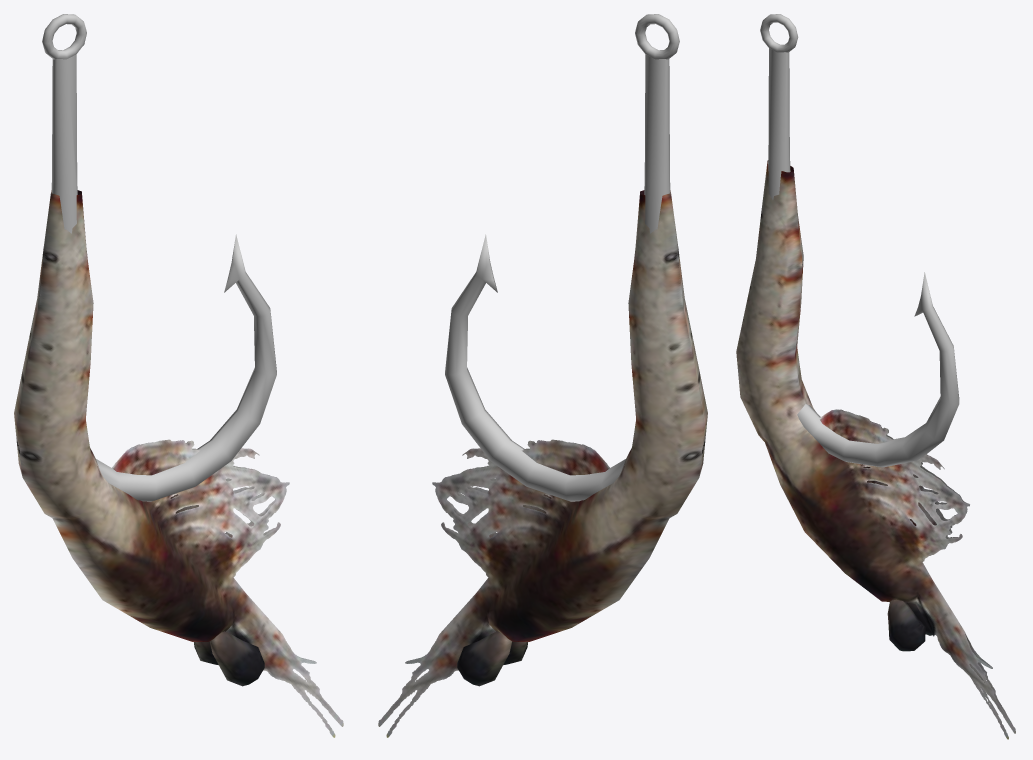
File: Bait_OpossumShrimp.fbx
3 renders of one model, left to right at view 1: azimuth 30°, elevation 25°; view 2: azimuth 150°, elevation 25°; view 3: azimuth 330°, elevation 25°, orthographic. The views are drawn at different scales.
Parts seen in each view (by area): view 1: Bait_Gonjaengi; view 2: Bait_Gonjaengi; view 3: Bait_Gonjaengi.
Boxes of the visible parts, <box> form: Bait_Gonjaengi: <box>14,14,343,737</box>; Bait_Gonjaengi: <box>378,14,707,737</box>; Bait_Gonjaengi: <box>736,14,1015,739</box>.
Bounding box in the file's own units: 0.298 × 0.6884 × 0.0755.
